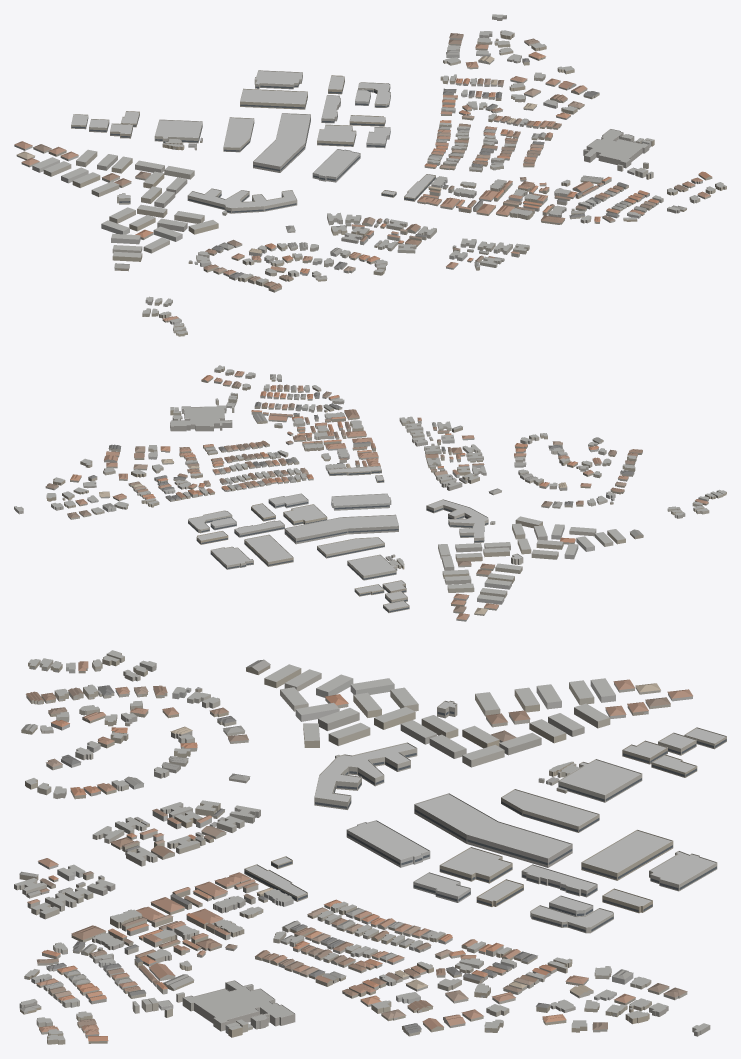
Rendered from buildings_r5_c6.glb.
The picture shows the model from 3 angles, top to bottom: view 1: azimuth 30°, elevation 25°; view 2: azimuth 150°, elevation 25°; view 3: azimuth 270°, elevation 25°; orthographic projection. The views are drawn at different scales.
Visible parts, largest first — view 1: buildings_r5_c6; view 2: buildings_r5_c6; view 3: buildings_r5_c6.
Boxes of the visible parts, <box> form: buildings_r5_c6: <box>14,14,726,336</box>; buildings_r5_c6: <box>14,365,726,621</box>; buildings_r5_c6: <box>14,650,726,1044</box>.
Bounding box in the file's own units: 1083 × 54.04 × 813.
